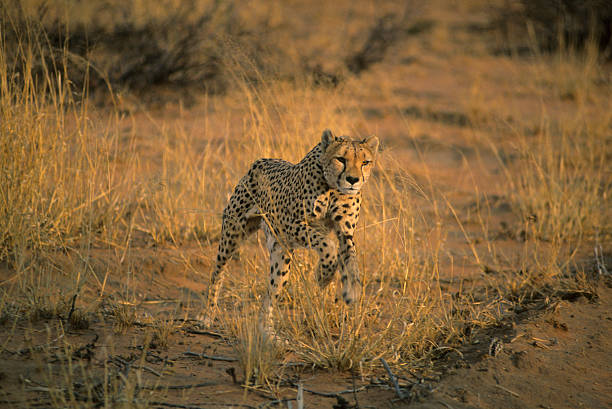cheetah: (314, 124, 384, 203)
